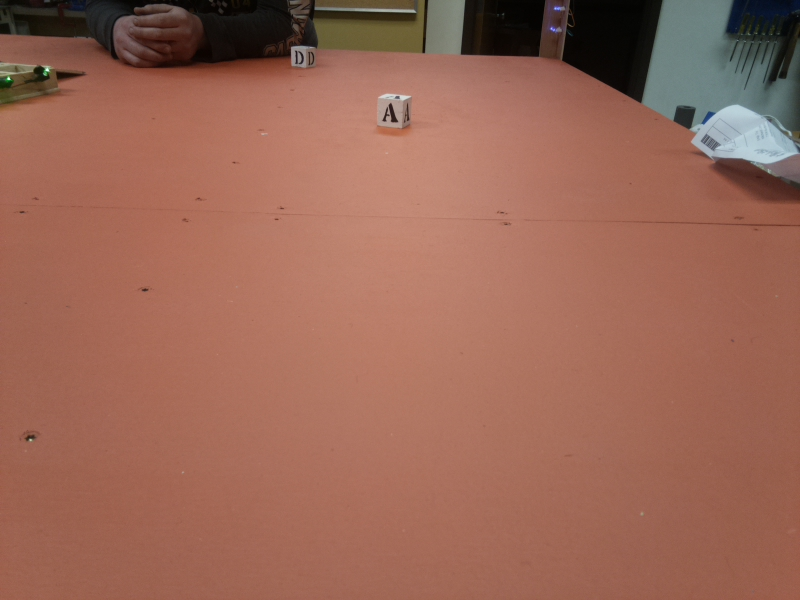blockA: (378, 93, 413, 130)
blockD: (290, 47, 315, 69)
corner: (533, 1, 576, 63)
side: (1, 66, 62, 101)
slope: (56, 64, 88, 84)
